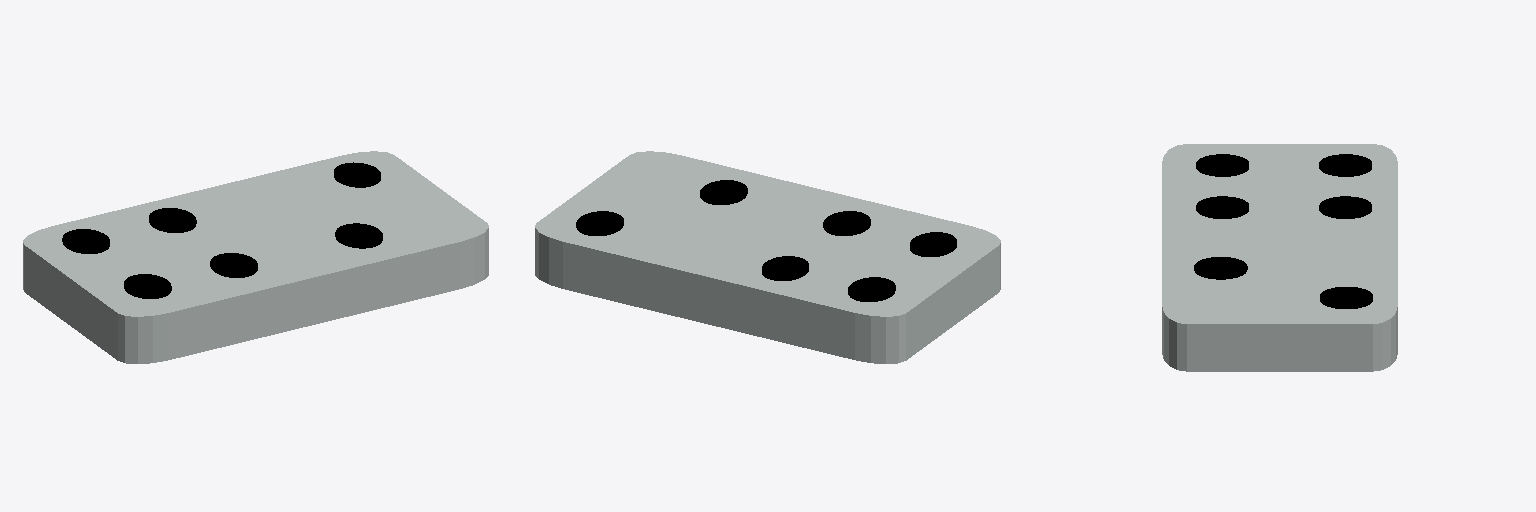
The model's file is domino.obj.
3 renders of one model, left to right at view 1: azimuth 30°, elevation 25°; view 2: azimuth 150°, elevation 25°; view 3: azimuth 270°, elevation 25°, orthographic.
Parts seen in each view (by area): view 1: Cube; view 2: Cube; view 3: Cube.
Boxes of the visible parts, x1=… form: Cube: x1=23, y1=151, x2=488, y2=363; Cube: x1=535, y1=151, x2=1000, y2=363; Cube: x1=1162, y1=144, x2=1397, y2=371.
Size of the model in its own units: 3.62 by 0.4762 by 2.